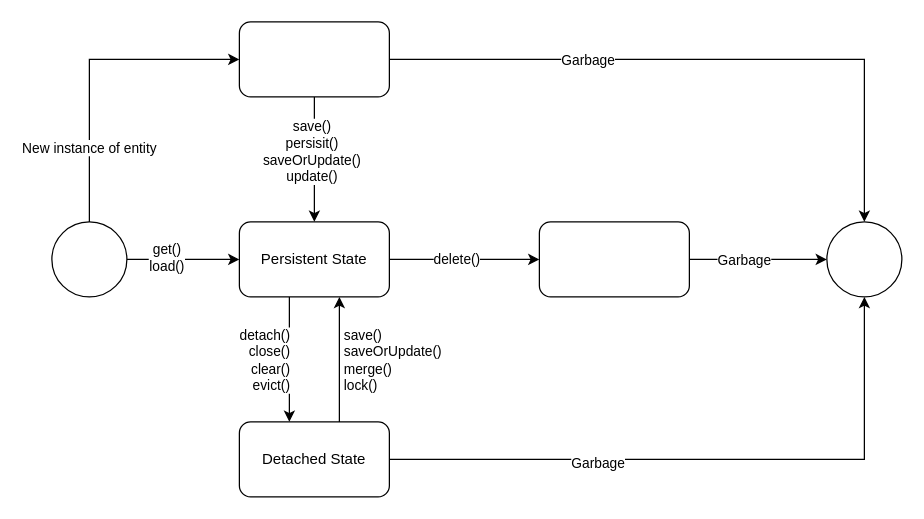
Some shapes in this 924 by 519 pixel diagram are drawn without their labels. The centre of each missing label's shape, as x and y in pixels:
Removed State: pixel 613 259
Transient State: pixel 313 59
